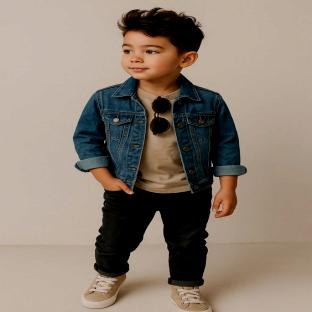Human: (74, 8, 247, 312)
